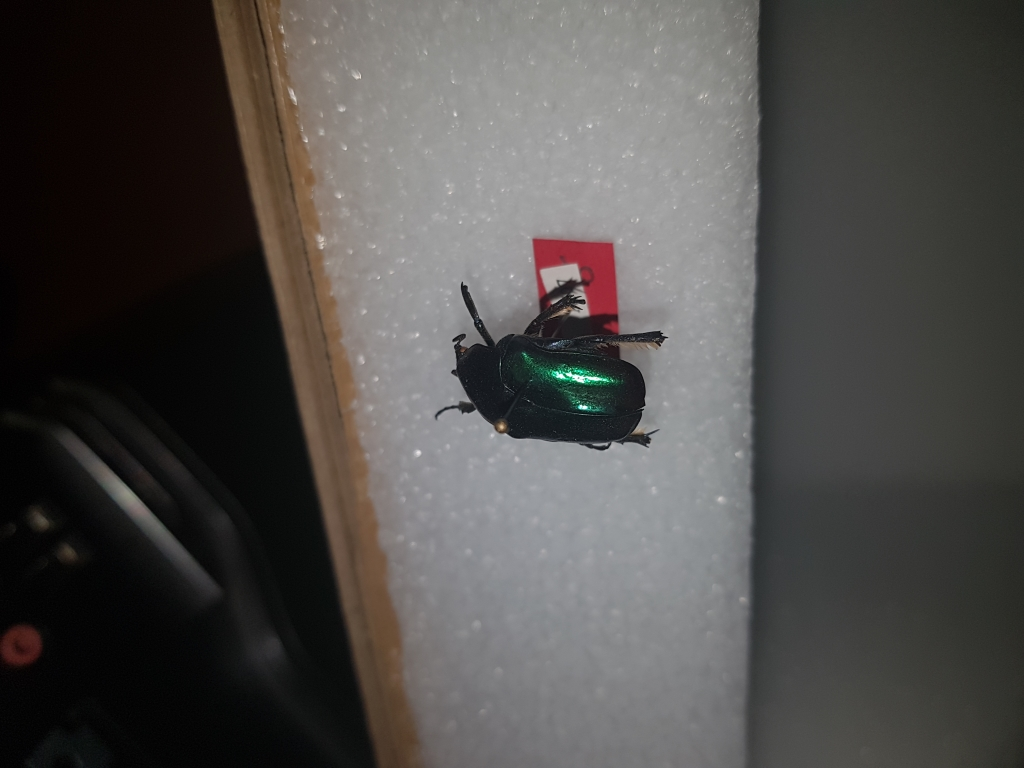Protaetia_besucheti: (428, 274, 679, 508)
